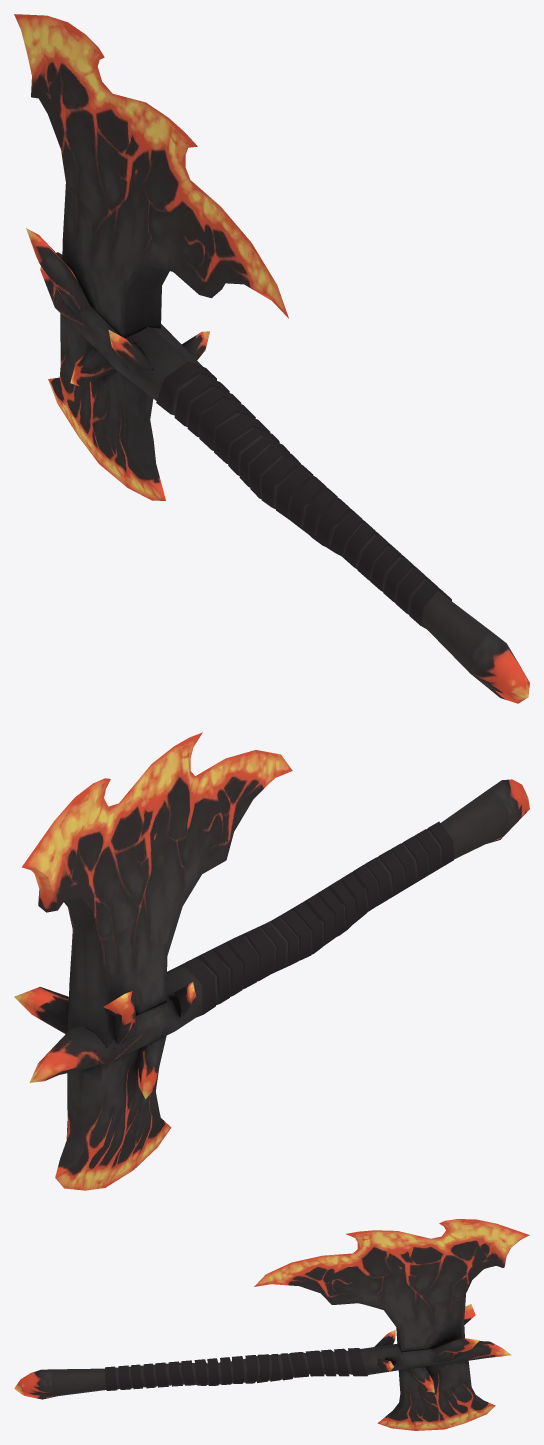
Rendered from sword-volcano_optimized.glb.
3 views of the same model, one above another, from view 1: azimuth 30°, elevation 25°; view 2: azimuth 150°, elevation 25°; view 3: azimuth 270°, elevation 25° (orthographic). The views are drawn at different scales.
Parts seen in each view (by area): view 1: c_rift_fire_axe.qc_skeleton; view 2: c_rift_fire_axe.qc_skeleton; view 3: c_rift_fire_axe.qc_skeleton.
Boxes of the visible parts, box(x1,y1,x2,y2) form: c_rift_fire_axe.qc_skeleton: box(14, 14, 529, 703); c_rift_fire_axe.qc_skeleton: box(14, 732, 529, 1190); c_rift_fire_axe.qc_skeleton: box(14, 1219, 529, 1430).
Size of the model in its own units: 5.23 by 19.68 by 43.41.
Materials: 1 (1 with a texture image).
